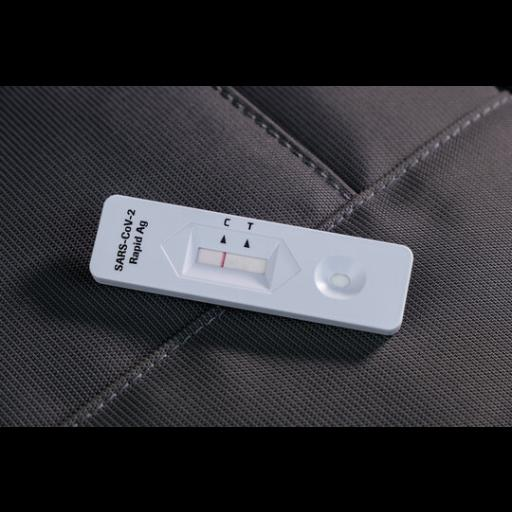Neg: (87, 193, 418, 330)
